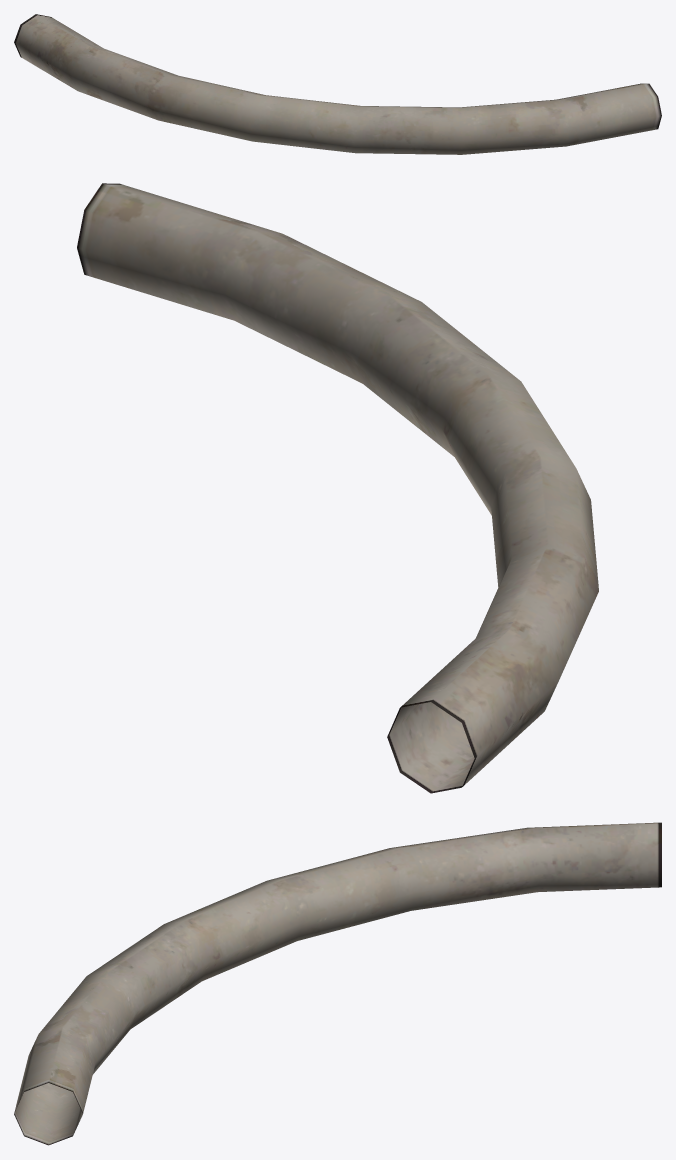
The model's file is 04_02_infirmary_curtain_railing_turn_noroof.dae.
3 renders of one model, top to bottom at view 1: azimuth 30°, elevation 25°; view 2: azimuth 150°, elevation 25°; view 3: azimuth 270°, elevation 25°, orthographic. The views are drawn at different scales.
Visible parts, largest first — view 1: Geometry_mesh032Node; view 2: Geometry_mesh032Node; view 3: Geometry_mesh032Node.
Part boxes in pixels (x1,y1,x2,y2): Geometry_mesh032Node: [14, 14, 661, 154]; Geometry_mesh032Node: [77, 183, 598, 793]; Geometry_mesh032Node: [14, 822, 661, 1145].
Bounding box in the file's own units: 0.6602 × 0.0704 × 0.6602.
